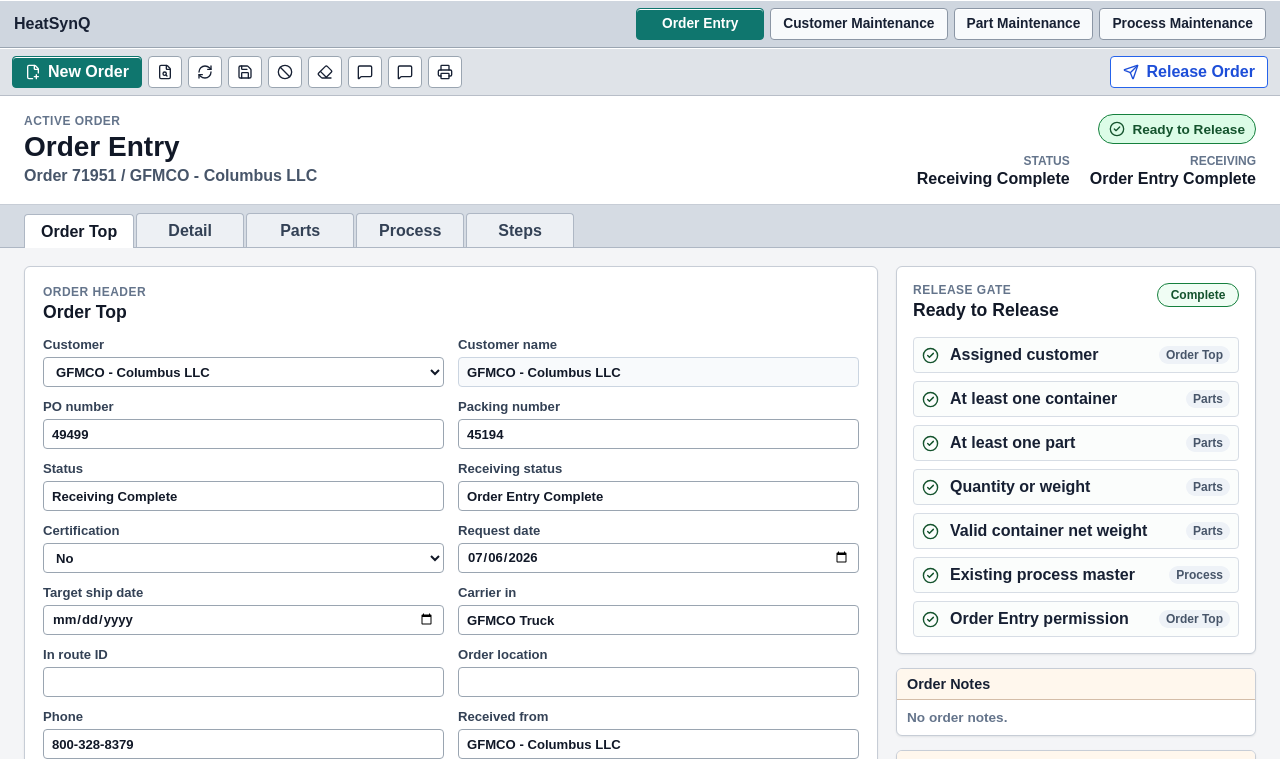
Test: AppShell › rehydrates Part Maintenance draft state from shared app parts after remounting
Click the button "Part Maintenance": (1023, 24) [954,8,1093,40]
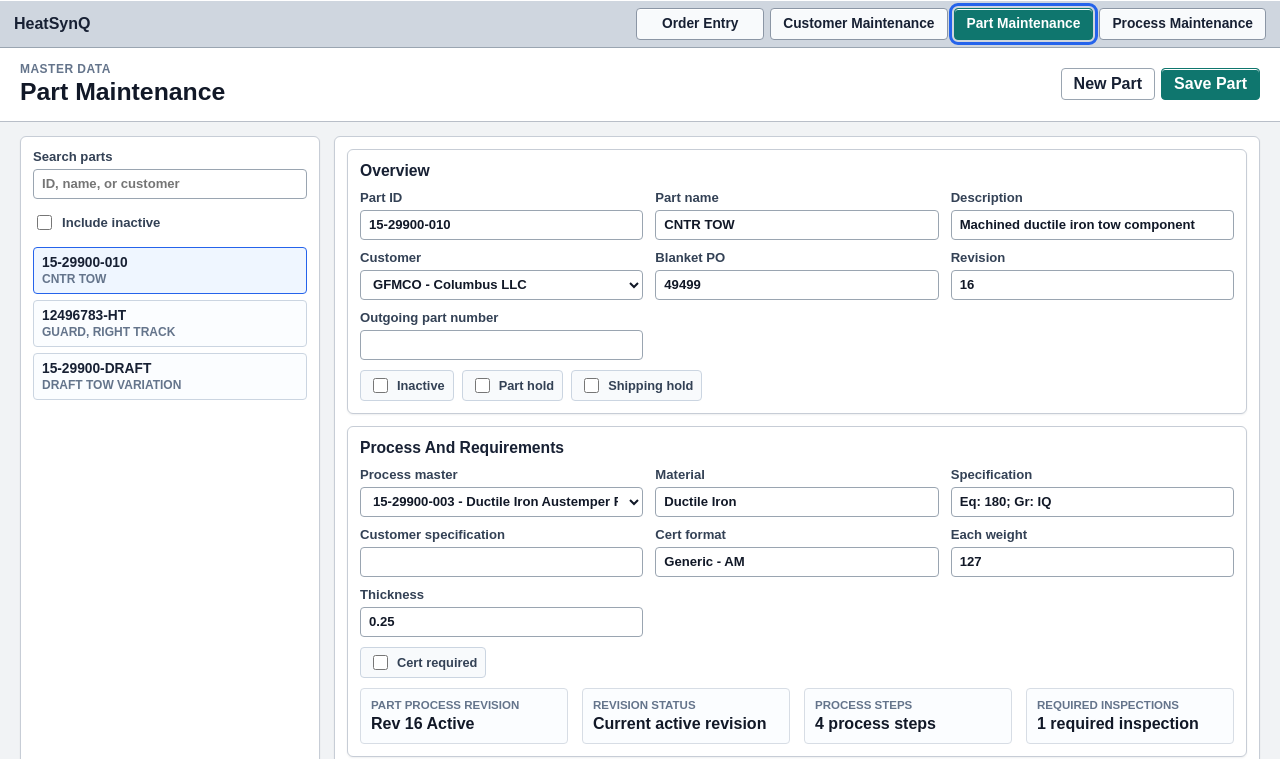
Replace the text in the field labelled "Part name" with "Shared Tow Update": (797, 224) [655,210,939,240]
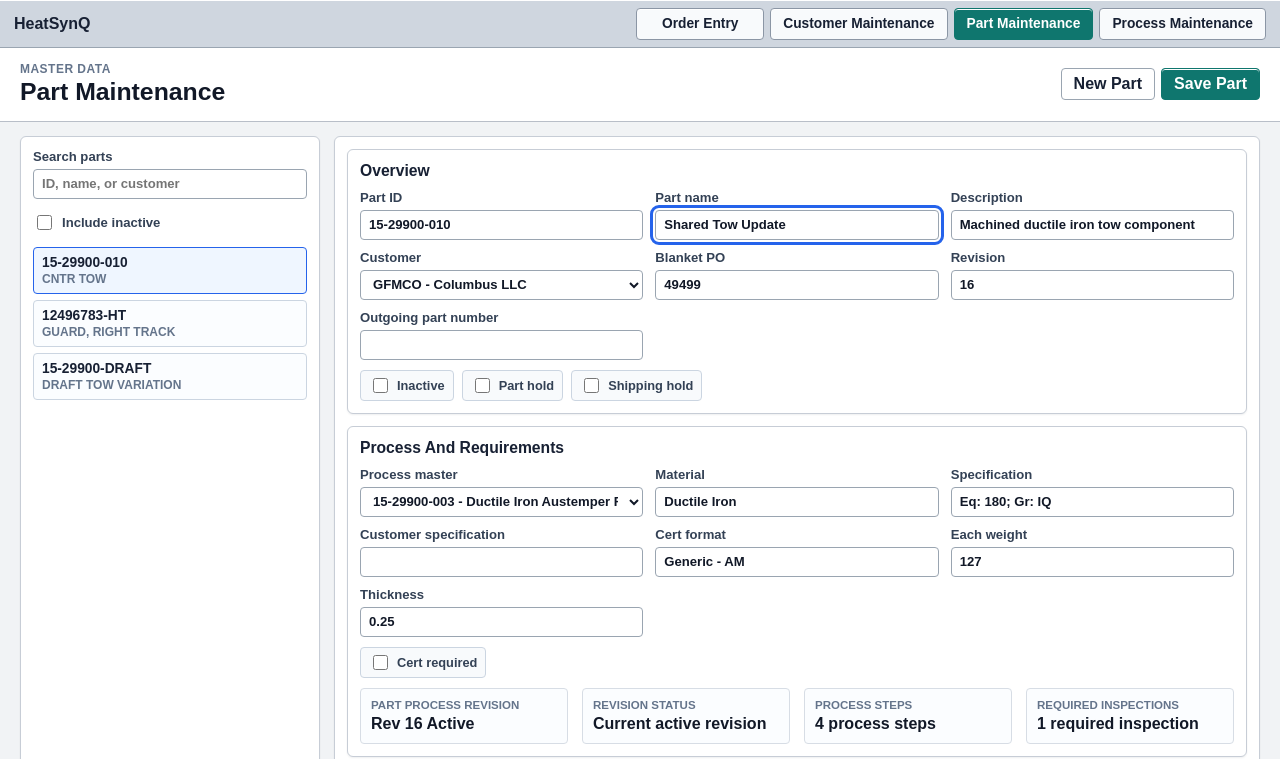
Click the button "Save Part": (1211, 84) [1161,68,1260,100]
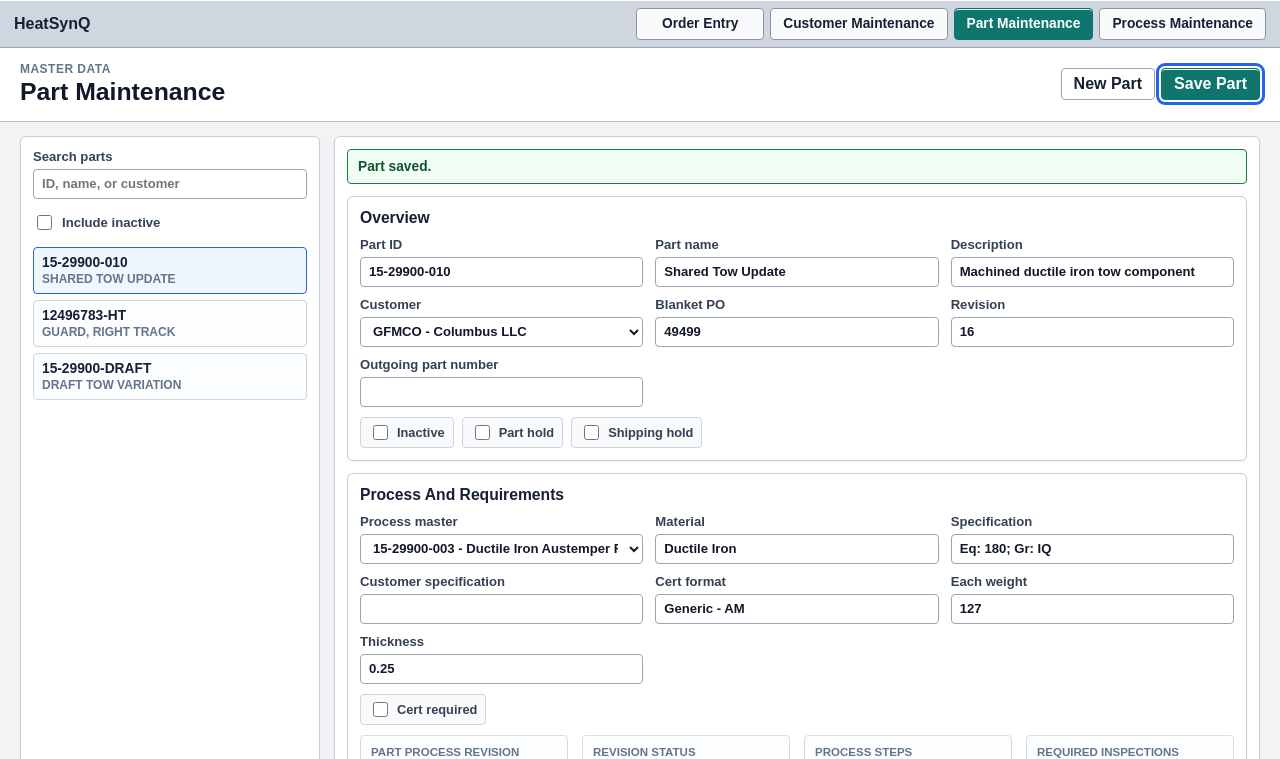
Expected: the text "Part saved." is shown, [347,148,1247,184]
Click the button "Customer Maintenance": (859, 24) [770,8,948,40]
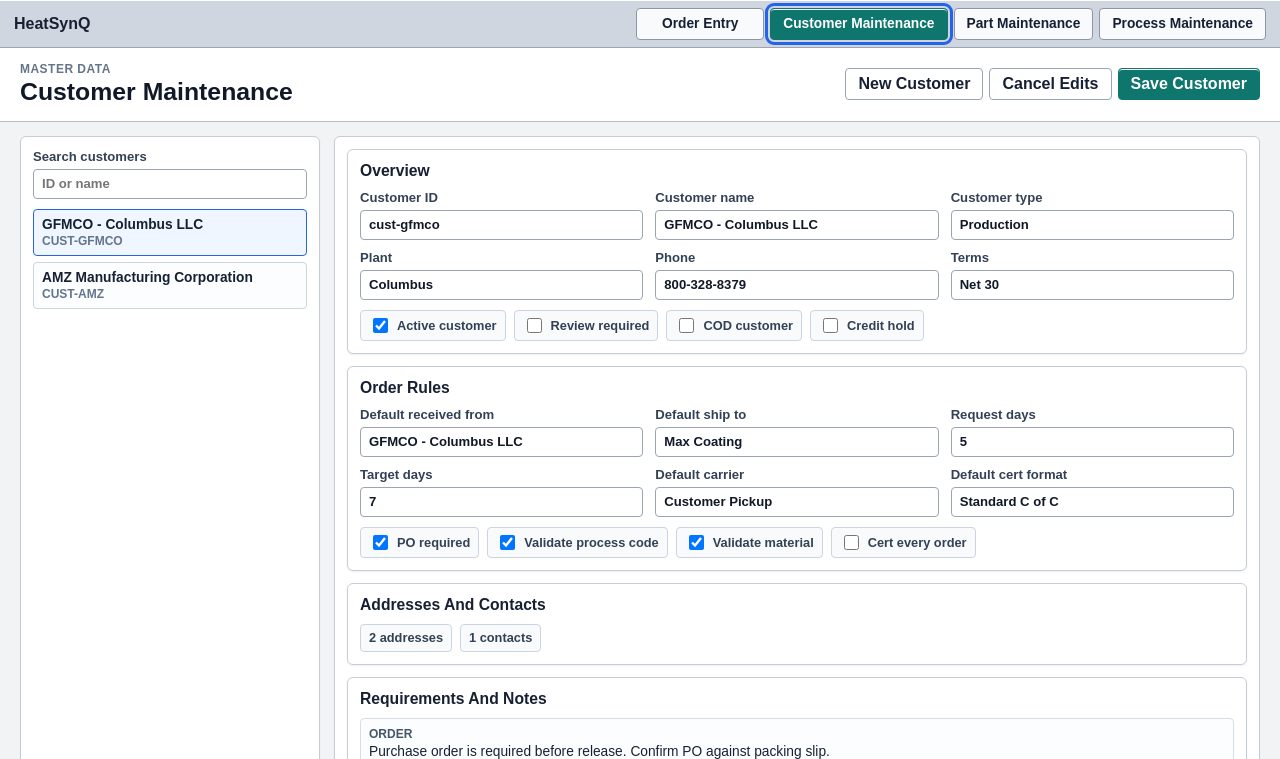
Click the button "Part Maintenance": (1023, 24) [954,8,1093,40]
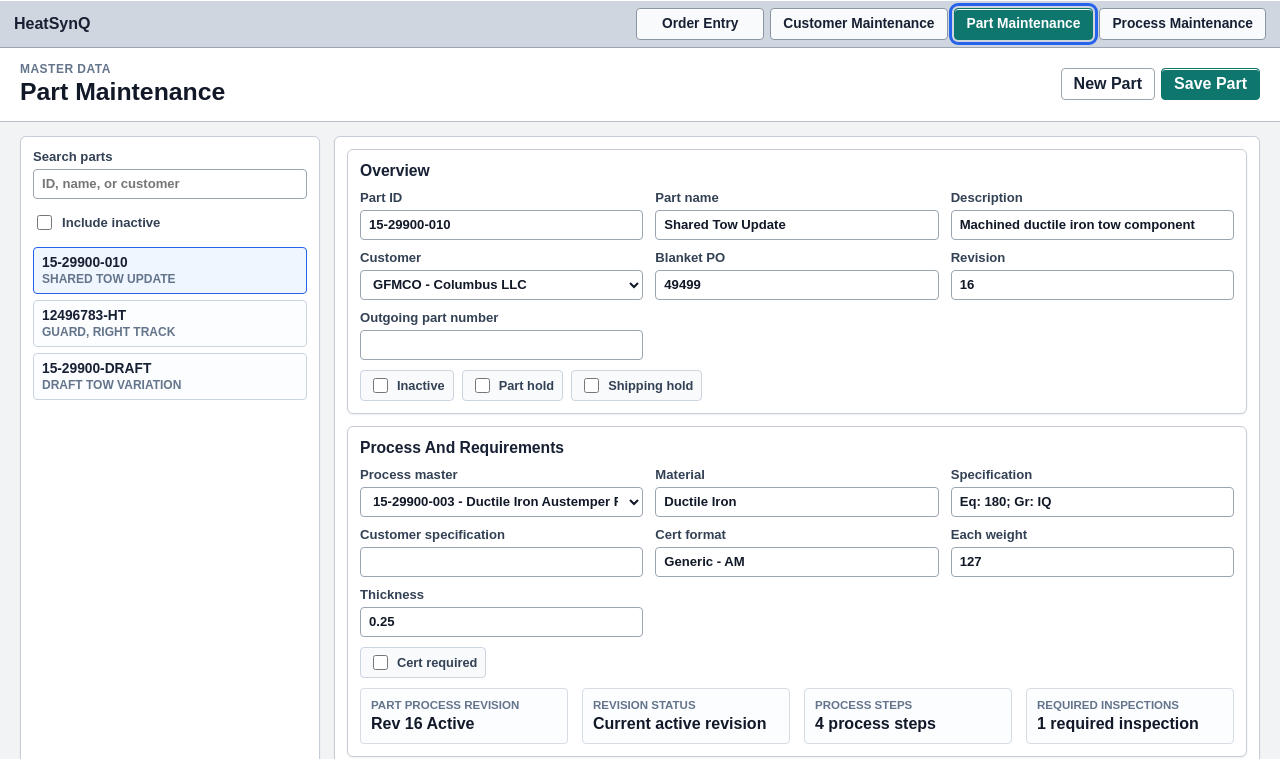
Expected: the field labelled "Part name" holds "Shared Tow Update", [655,210,939,240]
Expected: the button "15-29900-010 Shared Tow Update" is shown, [33,246,307,294]
